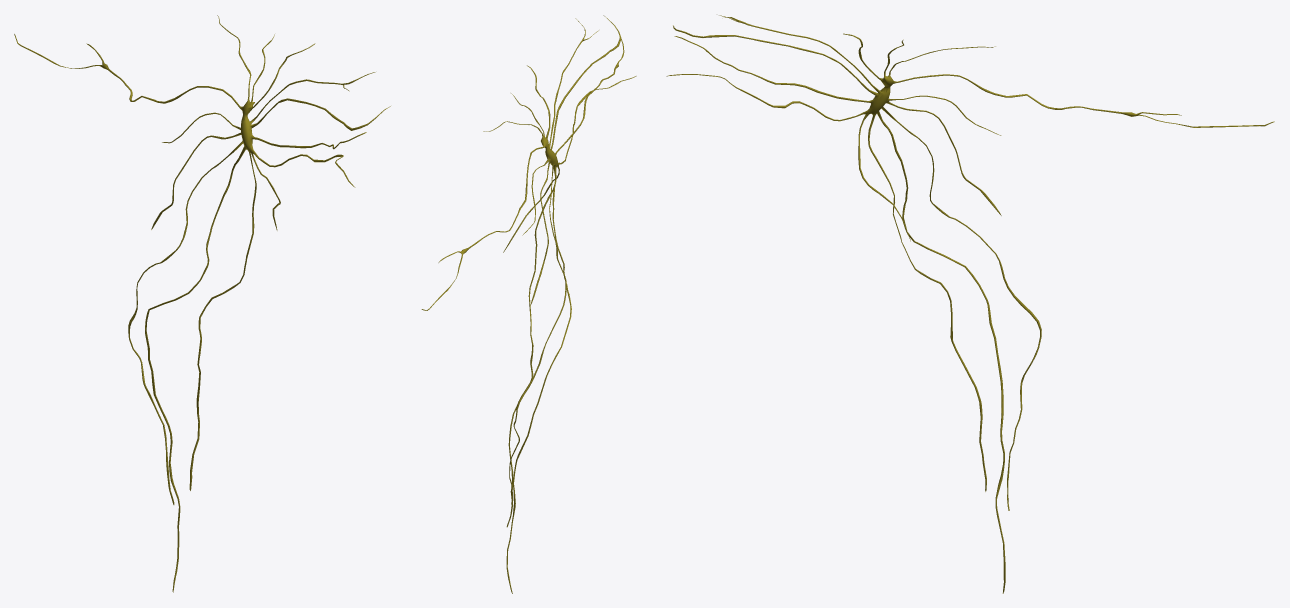
The model's file is R lymphocentrum cervicale superficiale.fbx.
3 renders of one model, left to right at view 1: azimuth 30°, elevation 25°; view 2: azimuth 150°, elevation 25°; view 3: azimuth 270°, elevation 25°, orthographic. The views are drawn at different scales.
Parts seen in each view (by area): view 1: R lymphocentrum cervicale superficiale, R lymphocentrum cervicale superficiale low; view 2: R lymphocentrum cervicale superficiale, R lymphocentrum cervicale superficiale low; view 3: R lymphocentrum cervicale superficiale, R lymphocentrum cervicale superficiale low.
Part boxes in pixels (left/top/right/bottom): R lymphocentrum cervicale superficiale: left=14, top=15, right=390, bottom=592; R lymphocentrum cervicale superficiale low: left=14, top=18, right=365, bottom=582; R lymphocentrum cervicale superficiale: left=421, top=15, right=636, bottom=593; R lymphocentrum cervicale superficiale low: left=422, top=26, right=623, bottom=582; R lymphocentrum cervicale superficiale: left=666, top=15, right=1274, bottom=593; R lymphocentrum cervicale superficiale low: left=667, top=17, right=1273, bottom=588.
Size of the model in its own units: 15.03 by 82.22 by 75.01.
